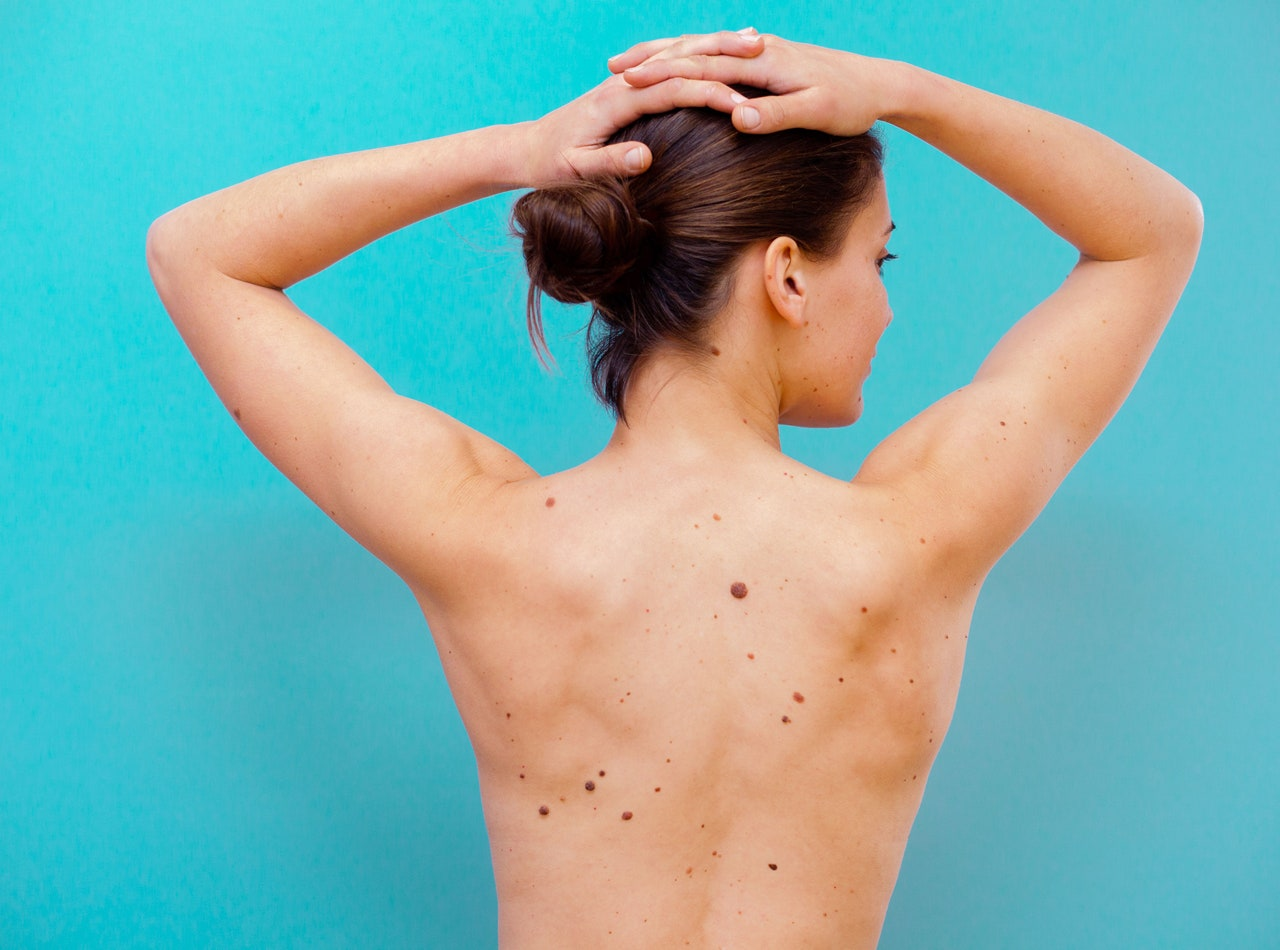DARK_SPOTS: (728, 580, 749, 603), (619, 808, 638, 824), (536, 803, 552, 821), (857, 602, 874, 618), (539, 494, 554, 508), (585, 776, 597, 793), (792, 690, 805, 705), (711, 511, 724, 522), (835, 674, 846, 685), (653, 784, 664, 795), (597, 768, 607, 780), (623, 689, 634, 699), (910, 772, 920, 783), (917, 536, 928, 546), (710, 847, 719, 858), (664, 756, 673, 766), (712, 609, 720, 620), (747, 651, 758, 659), (519, 771, 528, 780), (767, 859, 775, 869), (685, 865, 693, 875), (942, 633, 951, 641), (690, 521, 700, 528), (907, 677, 914, 685), (698, 821, 705, 828), (926, 736, 934, 742), (643, 606, 648, 612)
